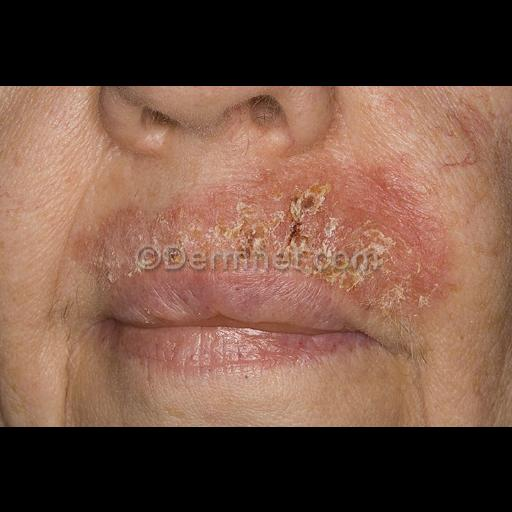Skin_Lesion: (338, 226, 420, 302), (84, 220, 184, 270), (196, 212, 266, 268), (276, 184, 328, 252)
